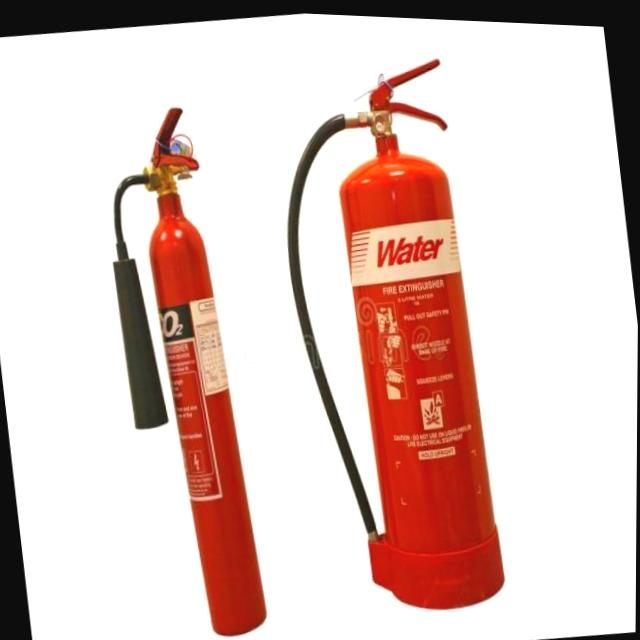FireExtinguisher: (260, 36, 519, 629), (86, 89, 275, 640)
